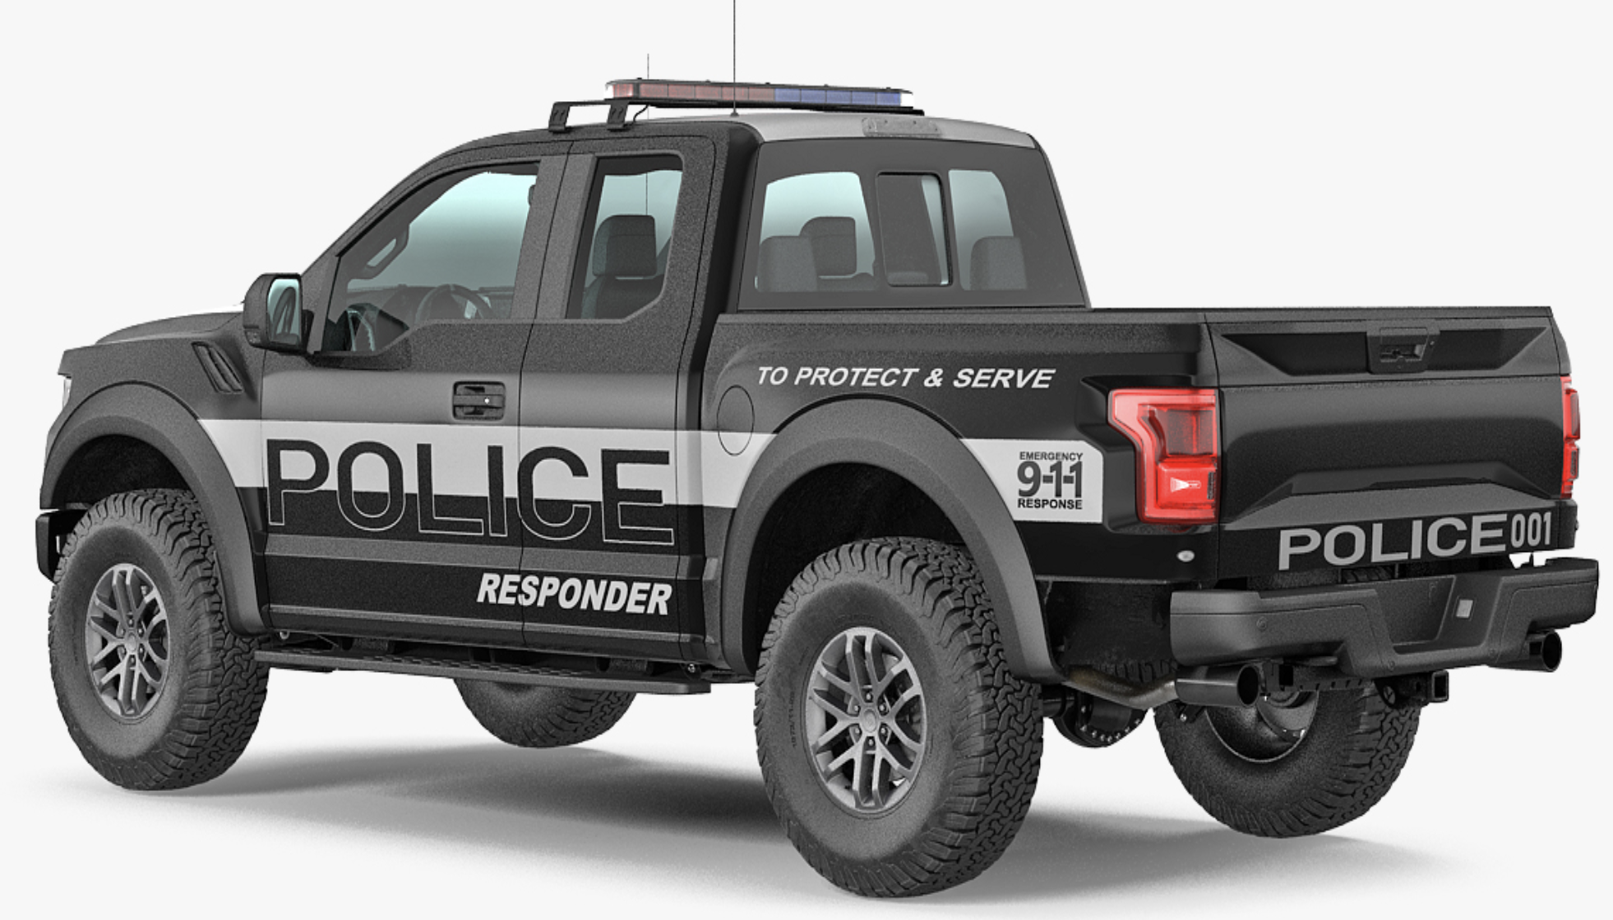hatch: (713, 382, 758, 458)
